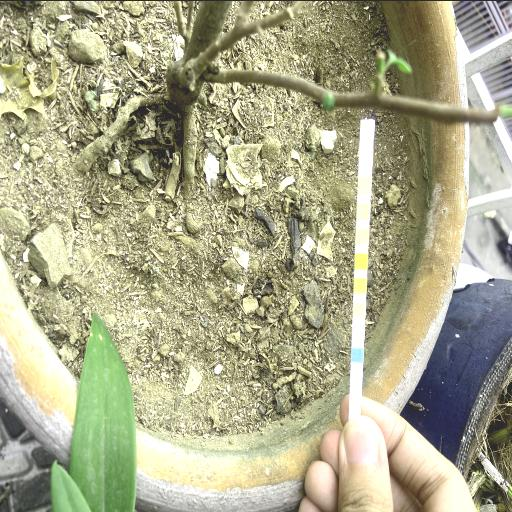Bilirubin: (352, 324, 364, 338)
Blood: (355, 252, 367, 268)
Glucose: (351, 347, 363, 361)
Ketone: (353, 301, 365, 317)
Leukocytes: (361, 120, 373, 138)
Nitrite: (360, 149, 372, 166)
Protein: (357, 202, 369, 218)
SpGravity: (354, 277, 366, 293)
Urobilinogen: (358, 176, 370, 194)
pH: (356, 228, 368, 244)
strip: (349, 119, 375, 409)
